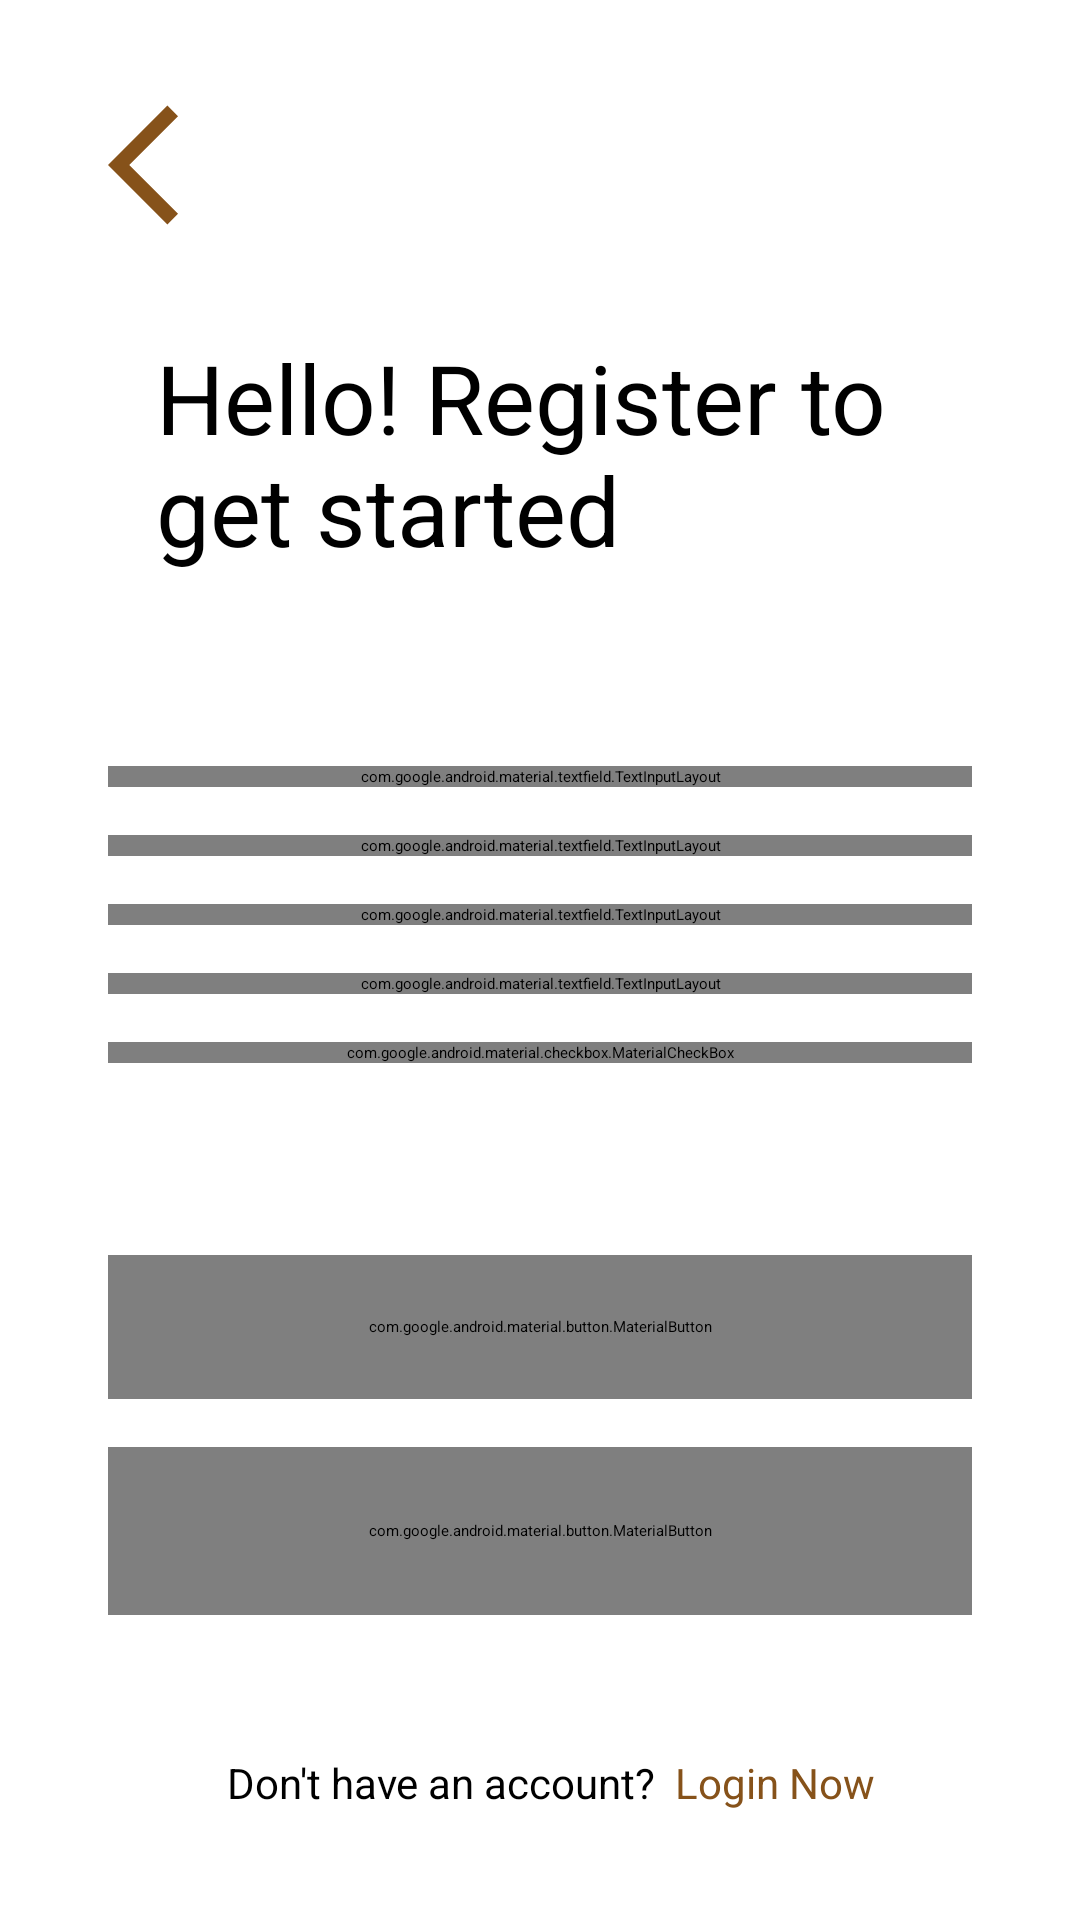

Screen size 1080w x 1920h. Icon name, then its box in pixels as (x1, y1, x2, y2):
back button: (108, 105, 178, 225)
